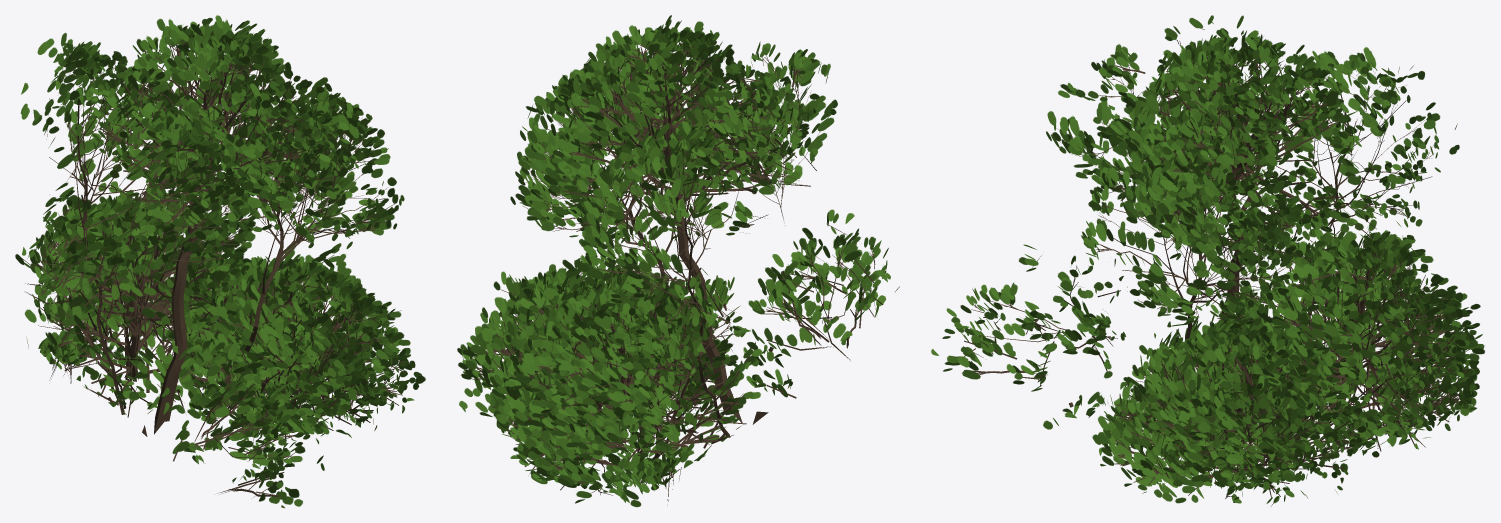
3 renders of one model, left to right at view 1: azimuth 30°, elevation 25°; view 2: azimuth 150°, elevation 25°; view 3: azimuth 270°, elevation 25°, orthographic.
Parts seen in each view (by area): view 1: oak 01.001_trunk_Mat.001_0.314; view 2: oak 01.001_trunk_Mat.001_0.314; view 3: oak 01.001_trunk_Mat.001_0.314.
Boxes of the visible parts, x1,y1,x2,y2 form: oak 01.001_trunk_Mat.001_0.314: (15,15,425,508); oak 01.001_trunk_Mat.001_0.314: (457,15,899,507); oak 01.001_trunk_Mat.001_0.314: (931,15,1484,506).
Size of the model in its own units: 2.58 by 3.45 by 4.22.
2 materials, 1 textured.
